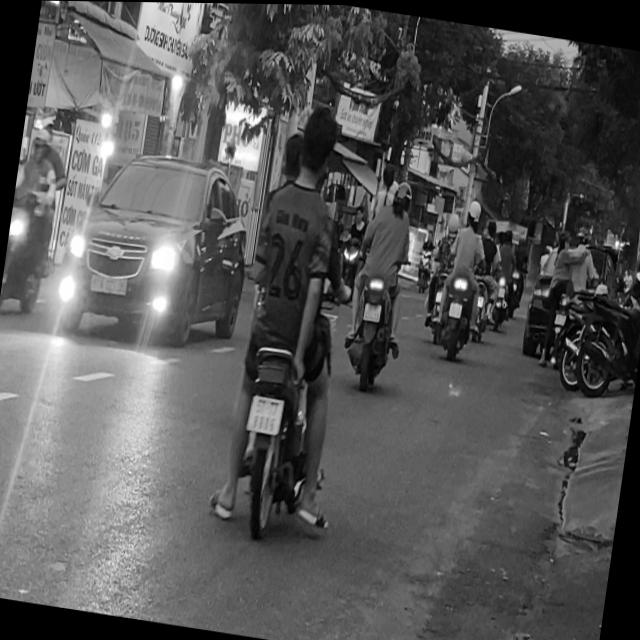helmet: (29, 115, 52, 156), (391, 178, 414, 213)
licenseplate: (206, 93, 380, 548), (336, 171, 423, 392)
motorcyclist: (291, 103, 342, 192)
nohelmet: (247, 394, 284, 435), (363, 300, 381, 321)
